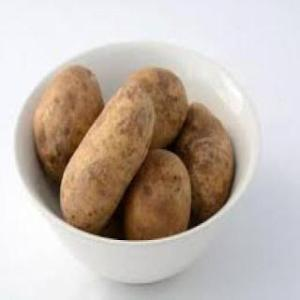potato: (61, 86, 154, 232), (34, 66, 106, 180), (180, 102, 236, 216), (130, 150, 192, 240), (128, 67, 186, 151)
